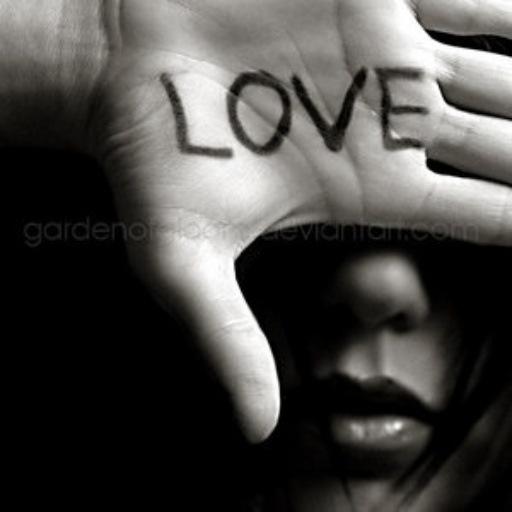hand: (87, 0, 510, 438)
